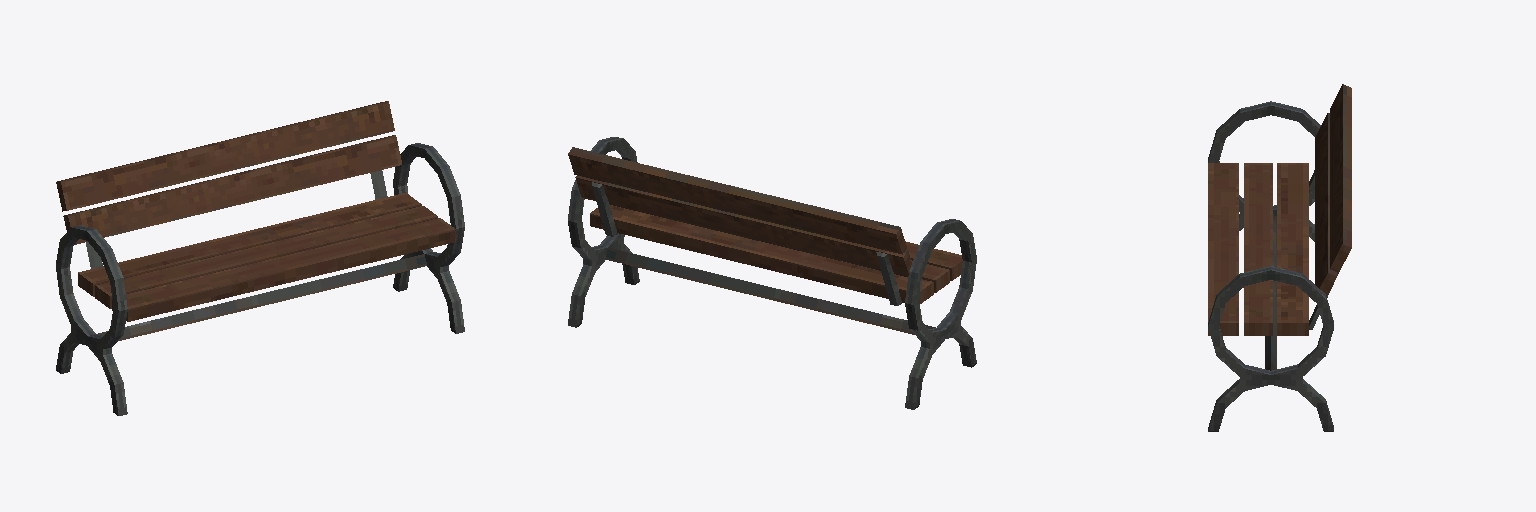
3 renders of one model, left to right at view 1: azimuth 30°, elevation 25°; view 2: azimuth 150°, elevation 25°; view 3: azimuth 270°, elevation 25°, orthographic.
Visible parts, largest first — view 1: bench_res; view 2: bench_res; view 3: bench_res.
Part boxes in pixels (left/top/right/bottom): bench_res: left=56, top=101, right=464, bottom=415; bench_res: left=568, top=137, right=976, bottom=409; bench_res: left=1208, top=84, right=1351, bottom=431.
Bounding box in the file's own units: 1.9 × 0.9637 × 0.6831.
Materials: 1 (1 with a texture image).